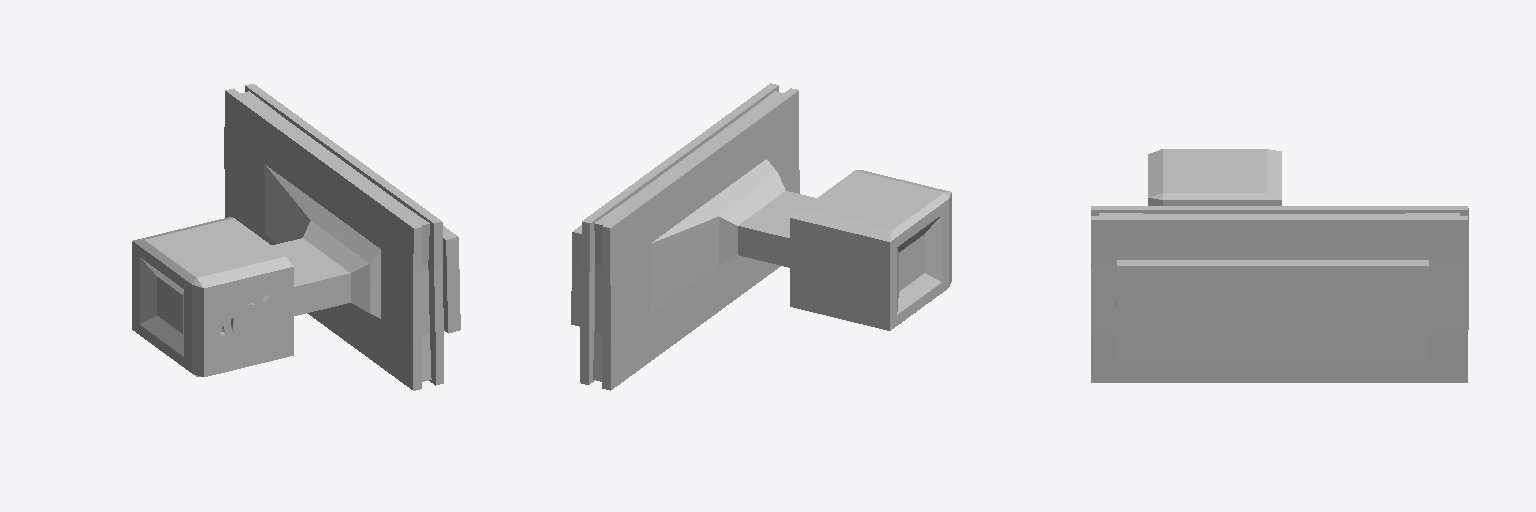
Rendered from hand_r.obj.
3 renders of one model, left to right at view 1: azimuth 30°, elevation 25°; view 2: azimuth 150°, elevation 25°; view 3: azimuth 270°, elevation 25°, orthographic.
Parts seen in each view (by area): view 1: hand_r_Cube.001; view 2: hand_r_Cube.001; view 3: hand_r_Cube.001.
Part boxes in pixels (x1,y1,x2,y2): hand_r_Cube.001: (132, 84, 460, 390); hand_r_Cube.001: (571, 83, 951, 390); hand_r_Cube.001: (1091, 149, 1468, 382).
Bounding box in the file's own units: 0.3613 × 0.228 × 0.4819.